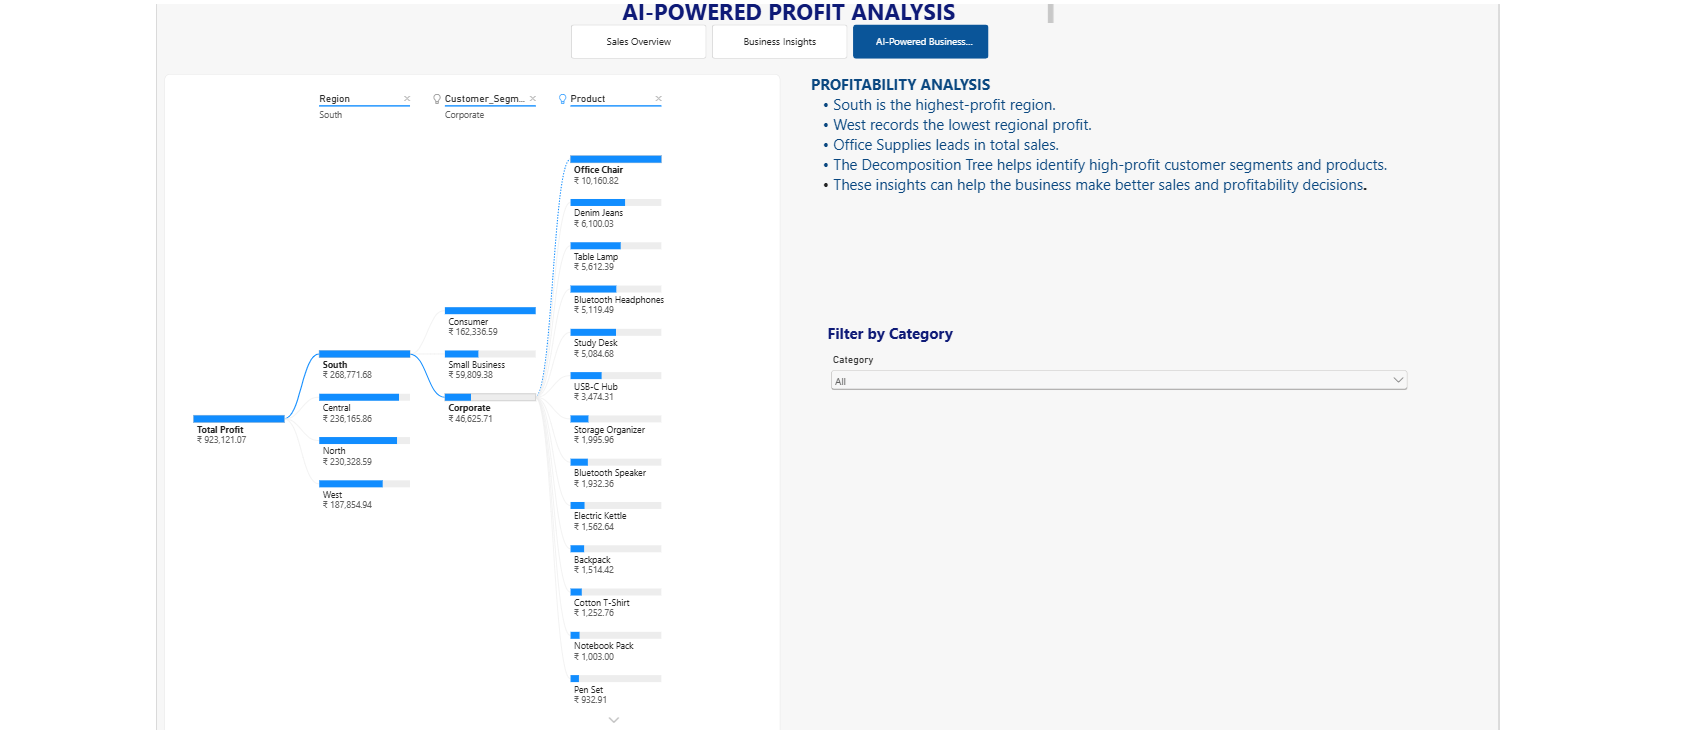

The page's visual inventory and layout, read from the dashboard file:
{"tool":"powerbi","page":{"name":"AI-Powered Business Insights","canvas":[1920,1080],"ordinal":2},"visuals":[{"type":"decompositionTreeVisual","fields":{"Analyze":["ecommerce_sales_dataset.Total Profit"],"ExplainBy":["ecommerce_sales_dataset.Region","ecommerce_sales_dataset.Customer_Segment","ecommerce_sales_dataset.Product"]},"box":[11.7,111,882.1,969.7],"z":0},{"type":"textbox","box":[452.7,0,830.8,40.4],"z":1000},{"type":"textbox","box":[937.6,111,958.1,254.1],"z":2000},{"type":"slicer","title":"Filter by Category","fields":{"Values":["ecommerce_sales_dataset.Category"]},"box":[961,467.3,835.4,128.5],"z":3000},{"type":"pageNavigator","box":[592.9,40.9,598.8,49.7],"z":4000}]}

Visuals, with their boxes on the page's 1920x1080 design canvas (x1, y1, x2, y2). These are canvas units, not pixel positions in the 1685x730 screenshot, which may show the page scaled, cropped or inside an application window:
decompositionTreeVisual - ecommerce_sales_dataset.Total Profit x ecommerce_sales_dataset.Region: l=12, t=111, r=894, b=1081
textbox: l=453, t=0, r=1284, b=40
textbox: l=938, t=111, r=1896, b=365
"Filter by Category" slicer: l=961, t=467, r=1796, b=596
pageNavigator: l=593, t=41, r=1192, b=91
